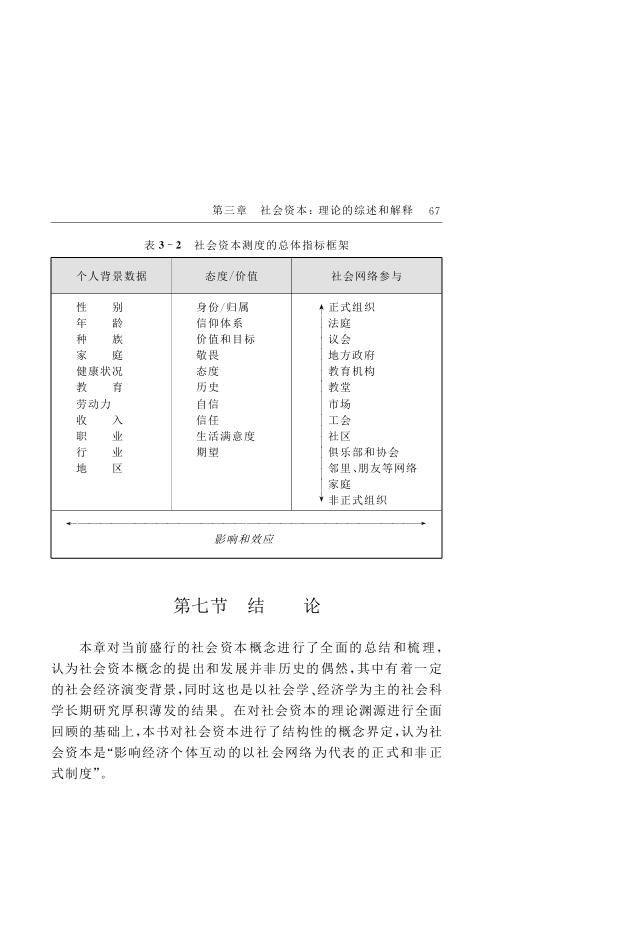table: (50, 256, 443, 559)
